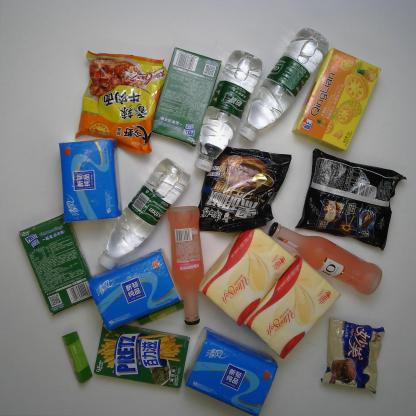Alcohol: (265, 220, 384, 298), (163, 203, 206, 327)
Dessert: (16, 210, 95, 317), (150, 45, 223, 149), (92, 320, 191, 391), (319, 316, 389, 398)
Drink: (236, 25, 331, 144), (97, 157, 192, 272), (192, 48, 263, 174)
Instant Noodles: (293, 146, 409, 254), (72, 48, 169, 157), (197, 143, 292, 236)
Stationery: (61, 330, 94, 385), (134, 298, 185, 327)
Tissue: (242, 252, 342, 361), (197, 226, 298, 328), (183, 325, 280, 415), (86, 247, 185, 332), (55, 137, 126, 225)
